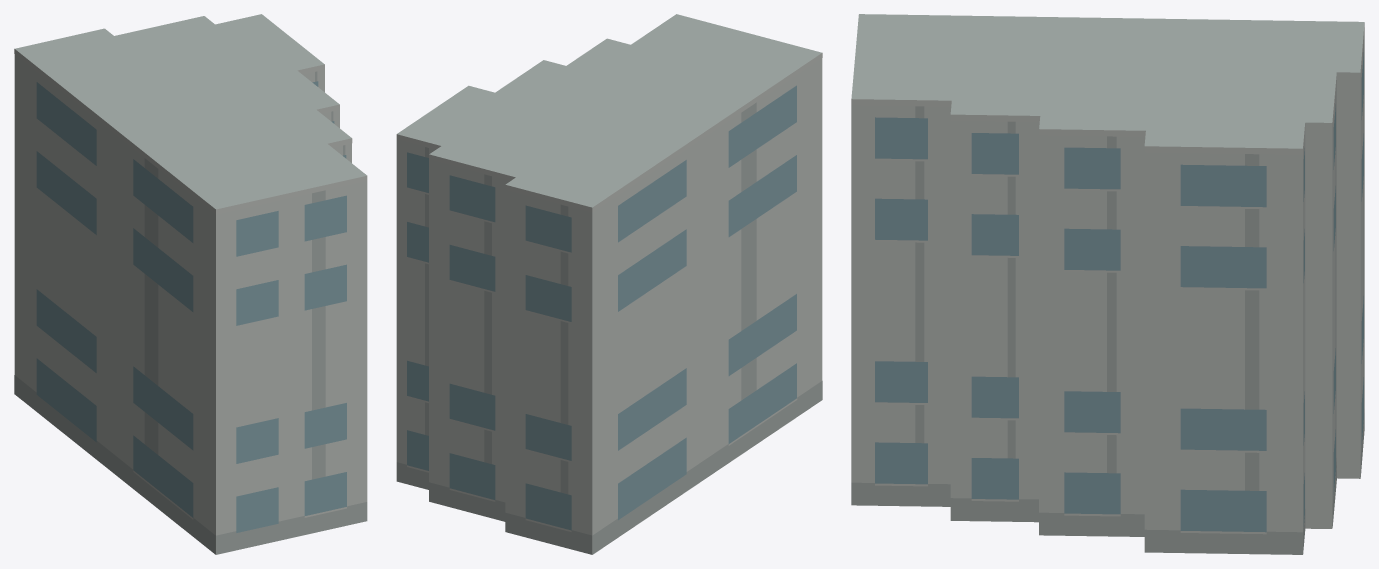
The model's file is survey-upis-32642607.glb.
3 views of the same model, side by side, from view 1: azimuth 30°, elevation 25°; view 2: azimuth 150°, elevation 25°; view 3: azimuth 270°, elevation 25° (orthographic). The views are drawn at different scales.
Parts seen in each view (by area): view 1: survey-upis-32642607.tmp; view 2: survey-upis-32642607.tmp; view 3: survey-upis-32642607.tmp.
Boxes of the visible parts, x1=… form: survey-upis-32642607.tmp: x1=14, y1=14, x2=367, y2=554; survey-upis-32642607.tmp: x1=396, y1=14, x2=822, y2=554; survey-upis-32642607.tmp: x1=851, y1=14, x2=1364, y2=554.
Size of the model in its own units: 11.32 by 15.9 by 18.22.
